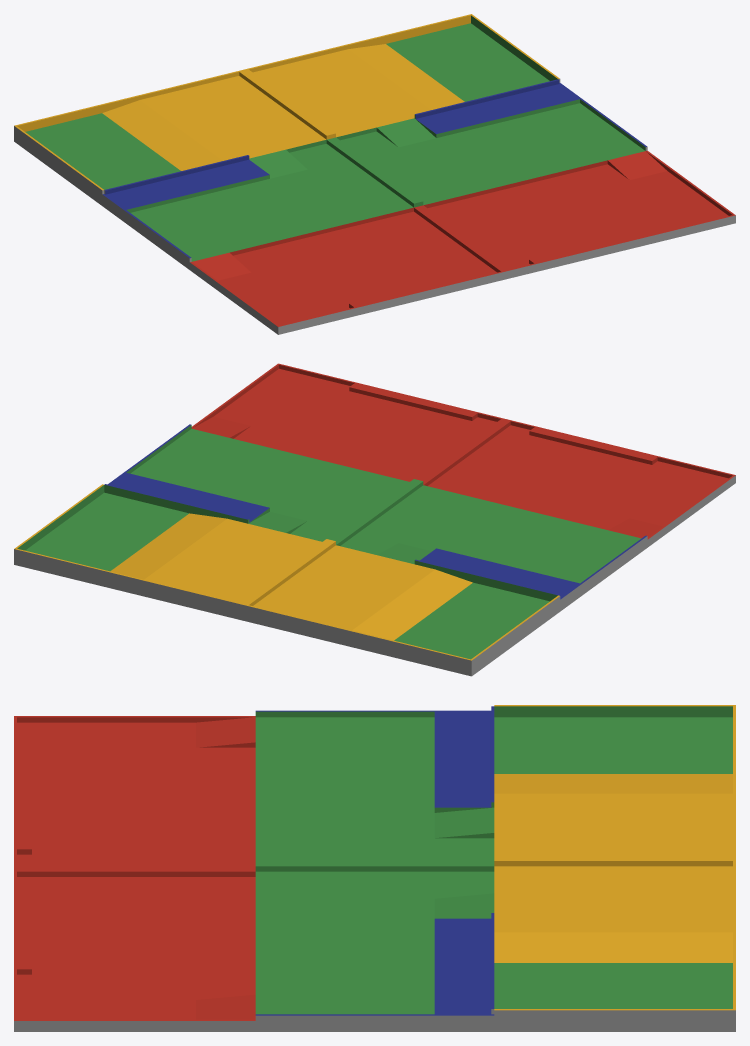
File: arena.dae
3 renders of one model, top to bottom at view 1: azimuth 30°, elevation 25°; view 2: azimuth 150°, elevation 25°; view 3: azimuth 270°, elevation 25°, orthographic. The views are drawn at different scales.
Parts seen in each view (by area): view 1: Body1_Powder_Coat_(Green), Body1_Powder_Coat_(Red), Body1_Powder_Coat_(Yellow), Body1_Powder_Coat_(Blue), Body1_Steel_-_Satin; view 2: Body1_Powder_Coat_(Green), Body1_Powder_Coat_(Red), Body1_Powder_Coat_(Yellow), Body1_Steel_-_Satin, Body1_Powder_Coat_(Blue); view 3: Body1_Powder_Coat_(Green), Body1_Powder_Coat_(Red), Body1_Powder_Coat_(Yellow), Body1_Powder_Coat_(Blue), Body1_Steel_-_Satin.
Boxes of the visible parts, x1,y1,x2,y2 form: Body1_Powder_Coat_(Green): (25,15,645,261); Body1_Powder_Coat_(Red): (190,150,735,326); Body1_Powder_Coat_(Yellow): (14,14,559,190); Body1_Powder_Coat_(Blue): (103,79,646,258); Body1_Steel_-_Satin: (14,79,735,334); Body1_Powder_Coat_(Green): (17,425,641,659); Body1_Powder_Coat_(Red): (191,363,735,539); Body1_Powder_Coat_(Yellow): (14,484,559,660); Body1_Steel_-_Satin: (14,475,735,676); Body1_Powder_Coat_(Blue): (104,424,646,599); Body1_Powder_Coat_(Green): (255,706,732,1014); Body1_Powder_Coat_(Red): (14,716,255,1020); Body1_Powder_Coat_(Yellow): (494,705,735,1010); Body1_Powder_Coat_(Blue): (255,706,494,1015); Body1_Steel_-_Satin: (14,1009,735,1031).
Size of the model in its own units: 12.1 by 12.1 by 0.4.
